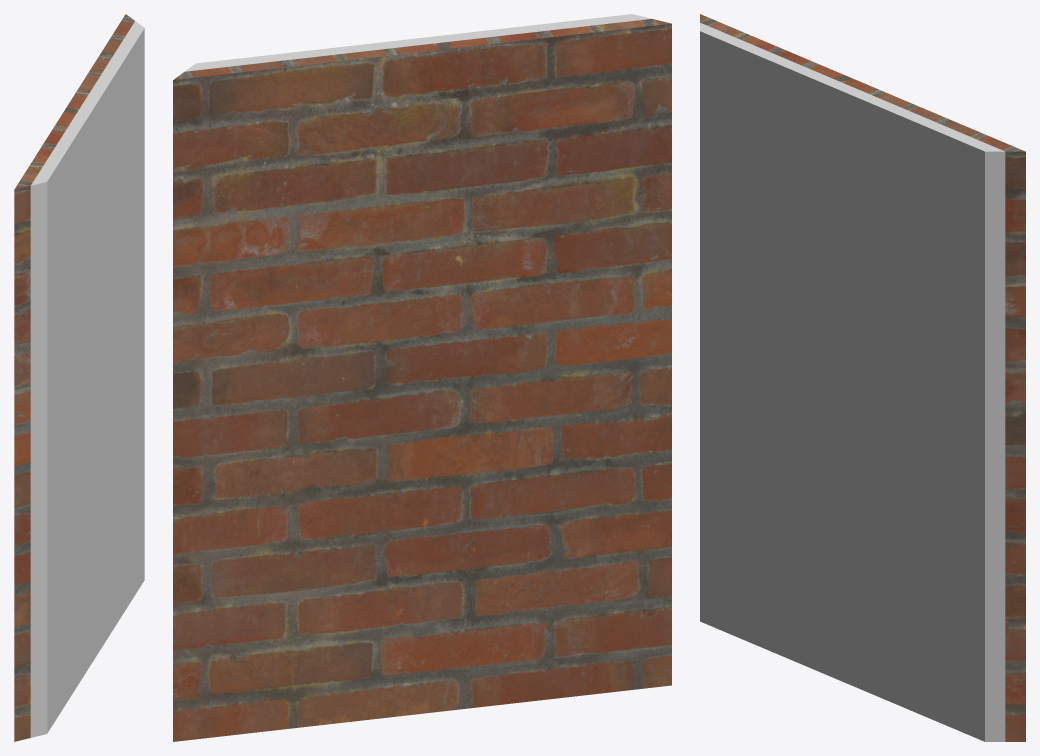
File: Diagonal_Wall_Complete.fbx
3 views of the same model, side by side, from view 1: azimuth 30°, elevation 25°; view 2: azimuth 150°, elevation 25°; view 3: azimuth 270°, elevation 25° (orthographic). The views are drawn at different scales.
Visible parts, largest first — view 1: Diagonal Wall; view 2: Diagonal Wall; view 3: Diagonal Wall.
Part boxes in pixels (x1,y1,x2,y2): Diagonal Wall: (14,14,144,741); Diagonal Wall: (173,14,671,741); Diagonal Wall: (700,14,1025,741).
Size of the model in its own units: 400 by 800 by 400.
